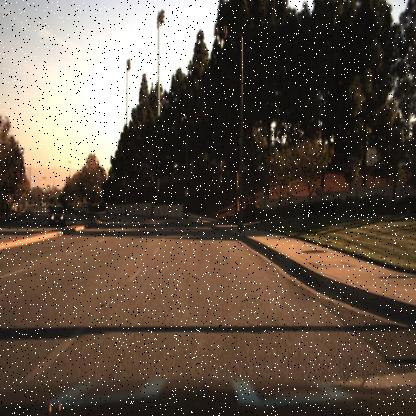car: (48, 205, 64, 227), (79, 202, 89, 214)
